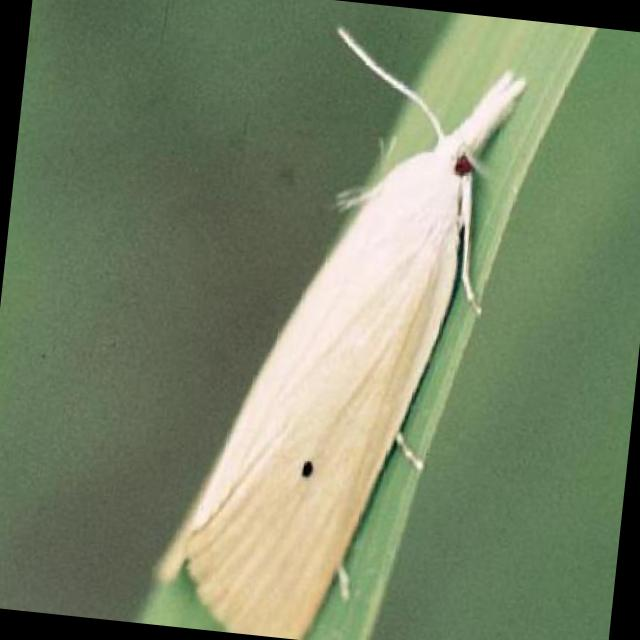stem-borer: (147, 30, 534, 640)
